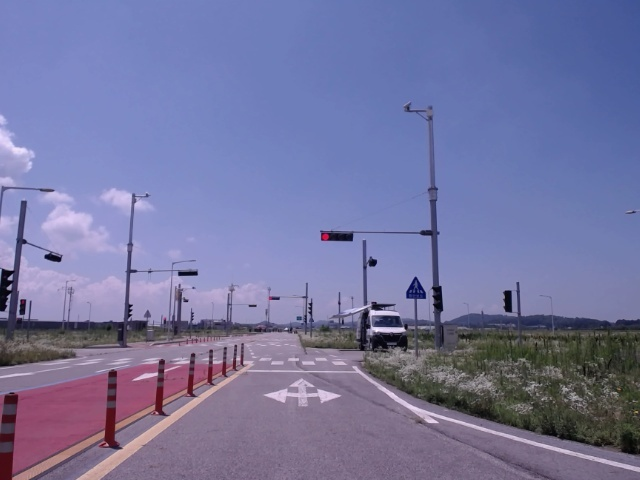red_4: (320, 231, 352, 241)
